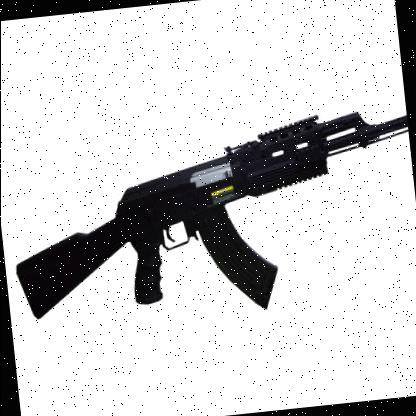rifle: (2, 83, 416, 362)
